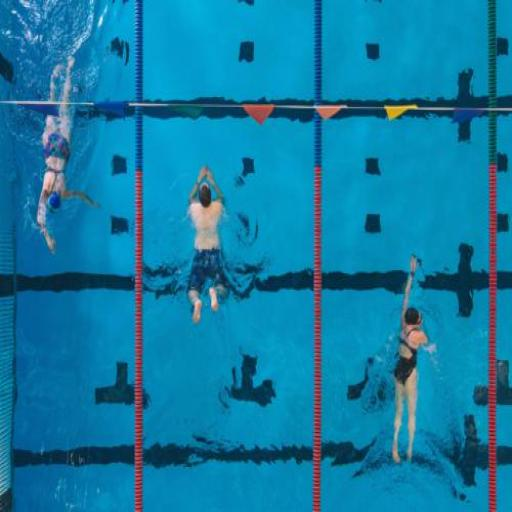swimming: (32, 53, 101, 256), (387, 250, 437, 467), (182, 163, 232, 326)
